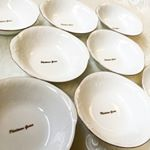other: (8, 24, 93, 84)
